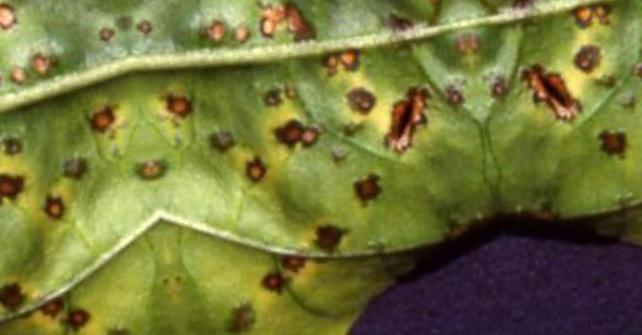Tomato Septoria leaf spot: (98, 0, 532, 335)
